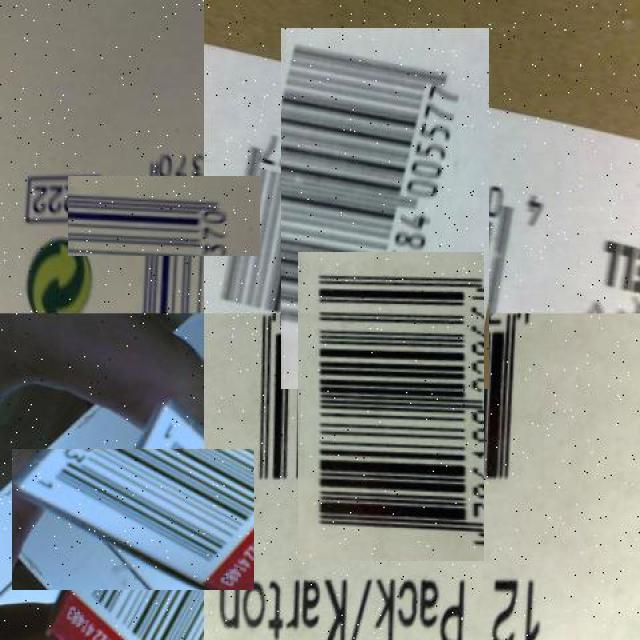Barcode: (242, 66, 527, 351), (266, 283, 515, 530), (37, 423, 229, 615), (96, 148, 232, 285)
